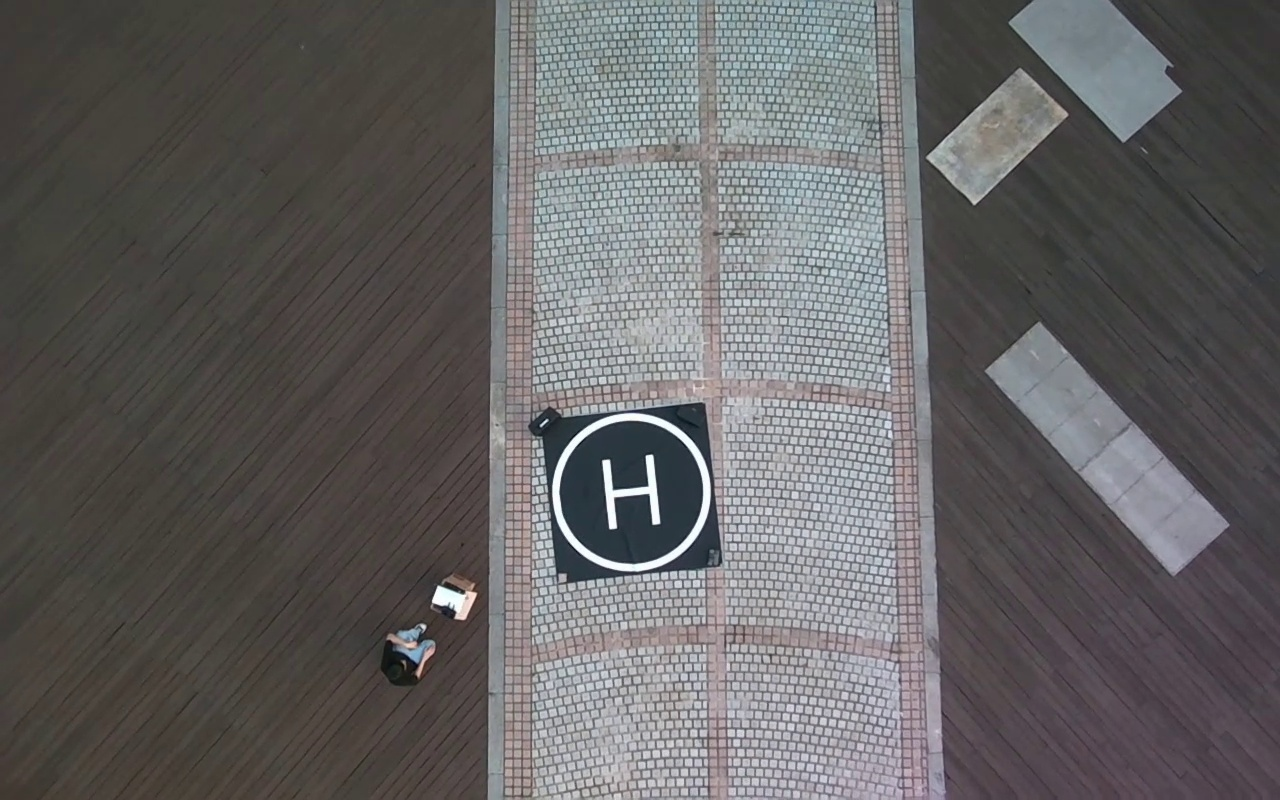H: (601, 453, 662, 528)
heliport: (552, 413, 711, 571)
